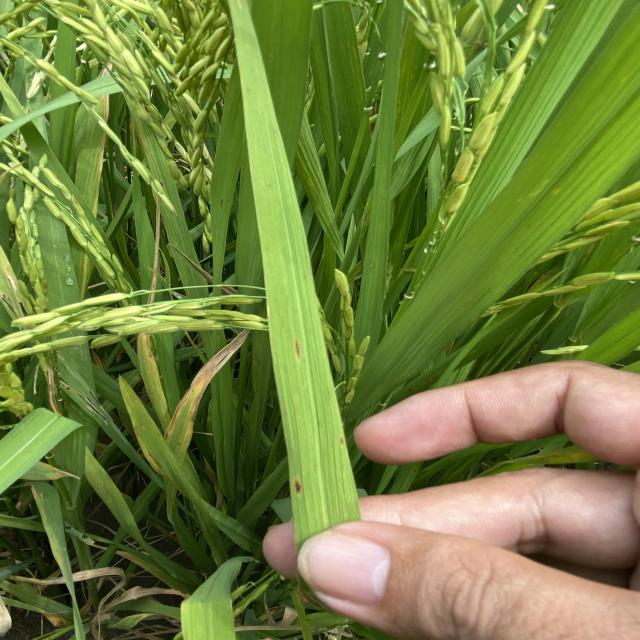Dom nau: (294, 478, 304, 498), (294, 338, 301, 359)
